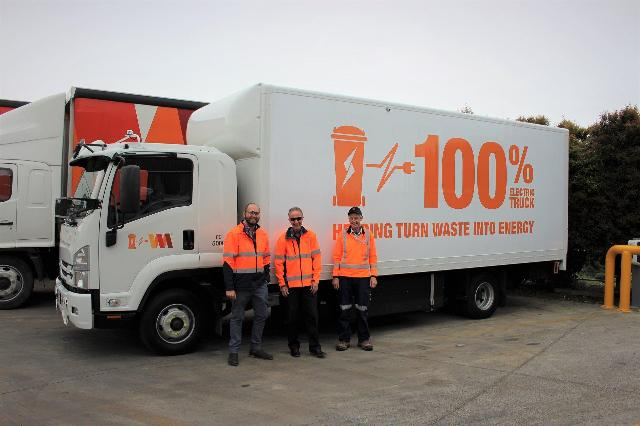truck: (46, 126, 226, 368)
